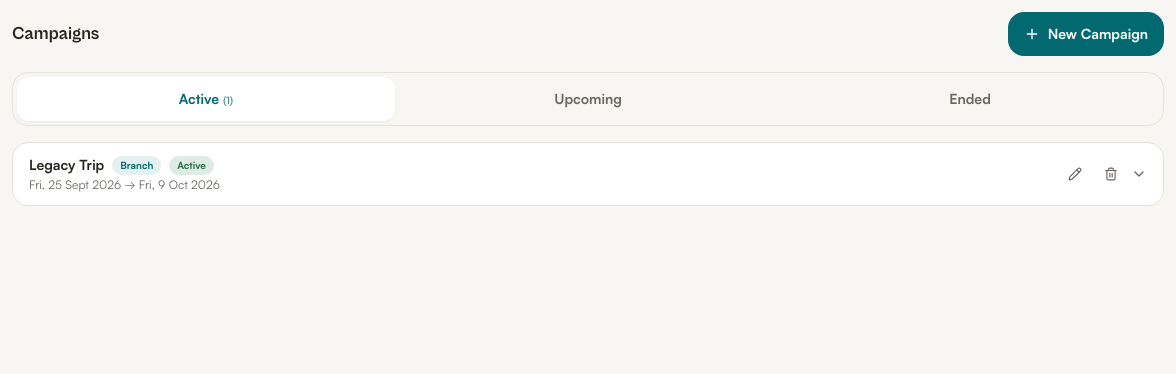
Scenario: CampaignPanel — 2.9 tiered standings (display-only) › a legacy flat campaign renders exactly as before — the progress table, no v2 standings, no crash
Click the text "Legacy Trip": (67, 165) [29, 155, 104, 175]
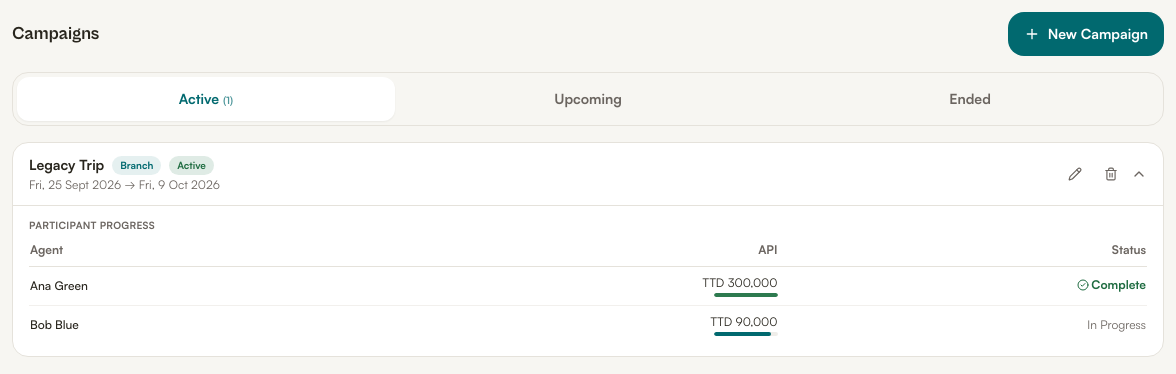
Expected: the text "Participant Progress" is shown, [29, 219, 155, 231]
